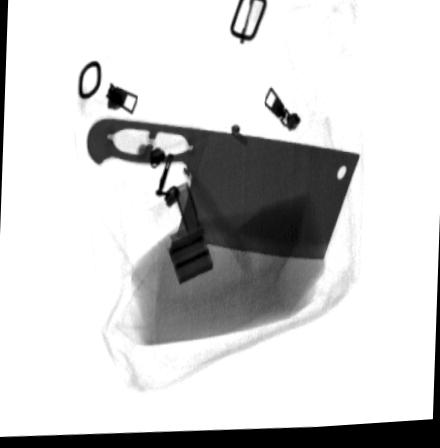Knife: (85, 116, 363, 265)
